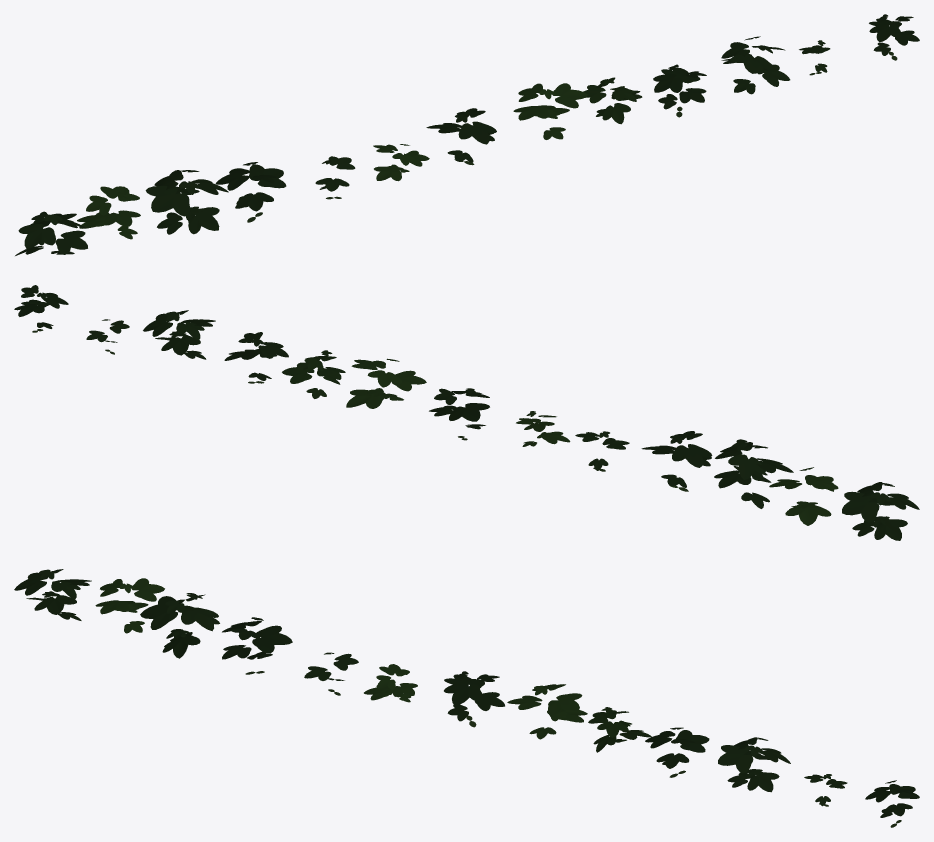
The model's file is ROW_22_SEG5_foliage.dae.
The picture shows the model from 3 angles, top to bottom: view 1: azimuth 30°, elevation 25°; view 2: azimuth 150°, elevation 25°; view 3: azimuth 330°, elevation 25°; orthographic projection.
Parts seen in each view (by area): view 1: ROW_22_SEG5_foliage; view 2: ROW_22_SEG5_foliage; view 3: ROW_22_SEG5_foliage.
Boxes of the visible parts, bbox=[...] form: ROW_22_SEG5_foliage: bbox=[15, 14, 919, 255]; ROW_22_SEG5_foliage: bbox=[14, 285, 919, 540]; ROW_22_SEG5_foliage: bbox=[14, 569, 919, 827].
Size of the model in its own units: 3.87 by 0.3295 by 0.2672.
